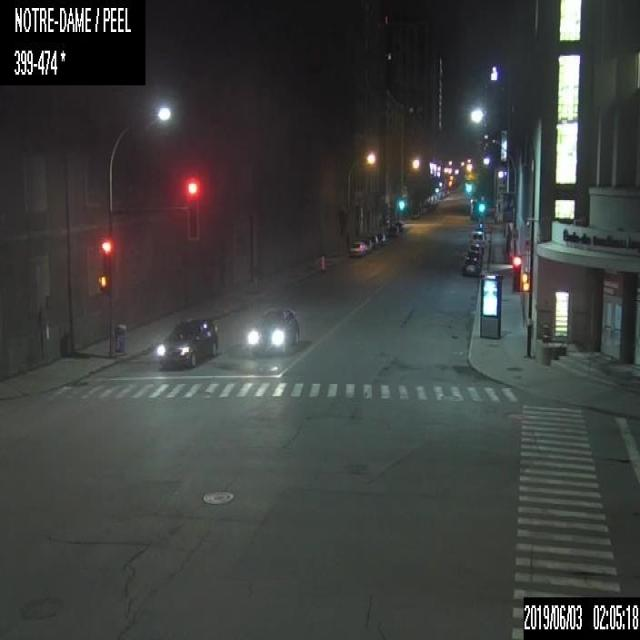construction: (319, 254, 326, 272)
vehicle: (158, 314, 218, 366), (245, 304, 300, 353), (468, 228, 484, 254), (462, 261, 480, 277), (348, 241, 363, 257), (359, 238, 372, 252), (468, 242, 480, 256), (366, 234, 378, 246), (464, 252, 476, 263), (390, 224, 398, 237), (376, 233, 385, 244)
